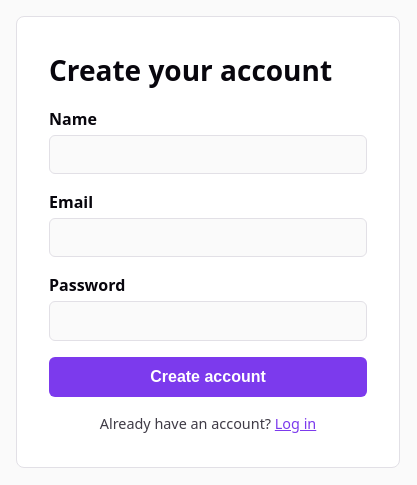
Test case: RegisterPage › shows a success state after registering
Type "New User" into the field labelled "Name". click: coordinates (208, 155)
box: [49,135,367,174]
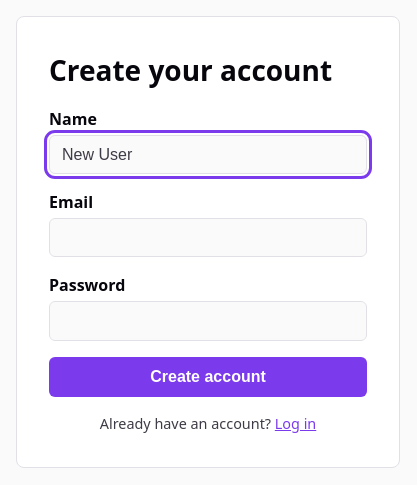
Type "new@example.com" into the field labelled "Email". click: coordinates (208, 238)
box: [49,218,367,257]
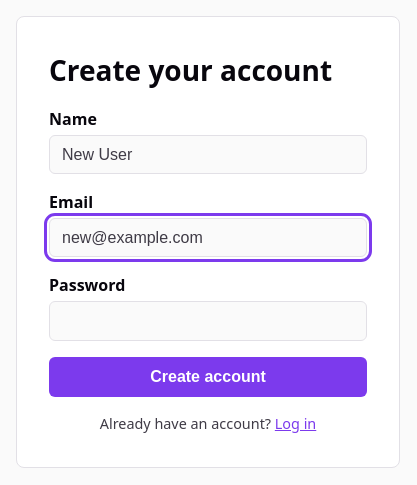
Type "password123" into the password field labelled "Password". click: coordinates (208, 321)
box: [49,301,367,341]
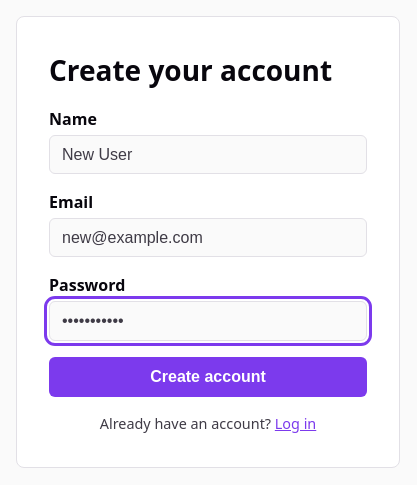
Click the button "Create account". click: coordinates (208, 377)
box: [49,357,367,397]
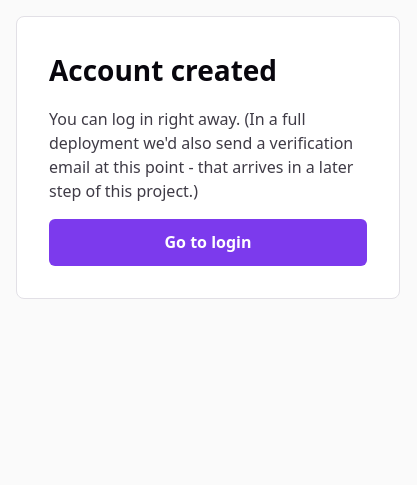
Expected: the message shows "Account created", [49,51,277,89]
